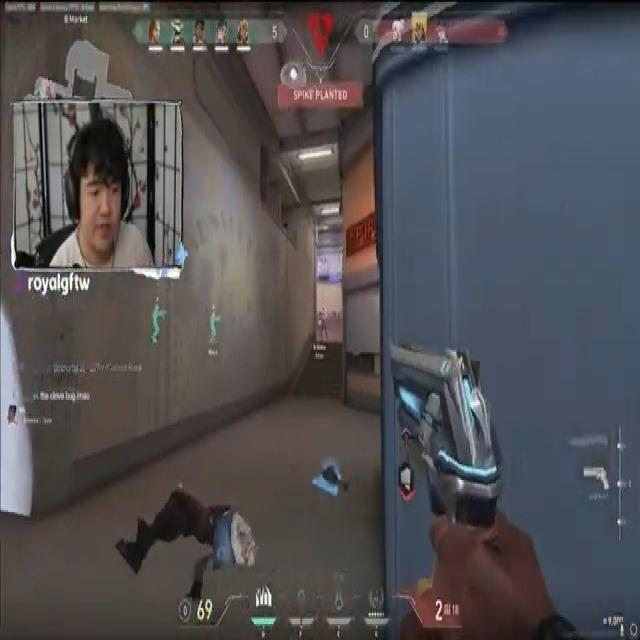ally behind wall: (148, 303, 169, 347), (206, 310, 222, 345)
enemy: (321, 305, 330, 342)
